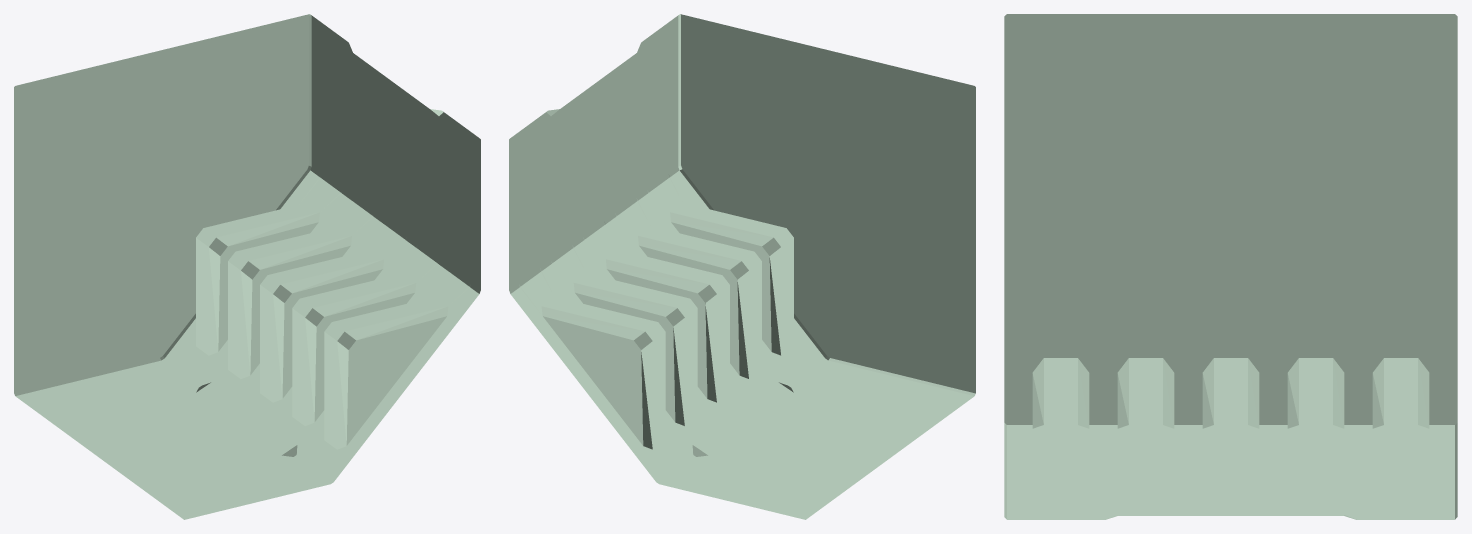
The model's file is uee_stanton_kit_ext_wall_8x8x8_05_reg.glb.
The picture shows the model from 3 angles, left to right: view 1: azimuth 30°, elevation 25°; view 2: azimuth 150°, elevation 25°; view 3: azimuth 270°, elevation 25°; orthographic projection. The views are drawn at different scales.
Bounding box in the file's own units: 8 × 8 × 8.
